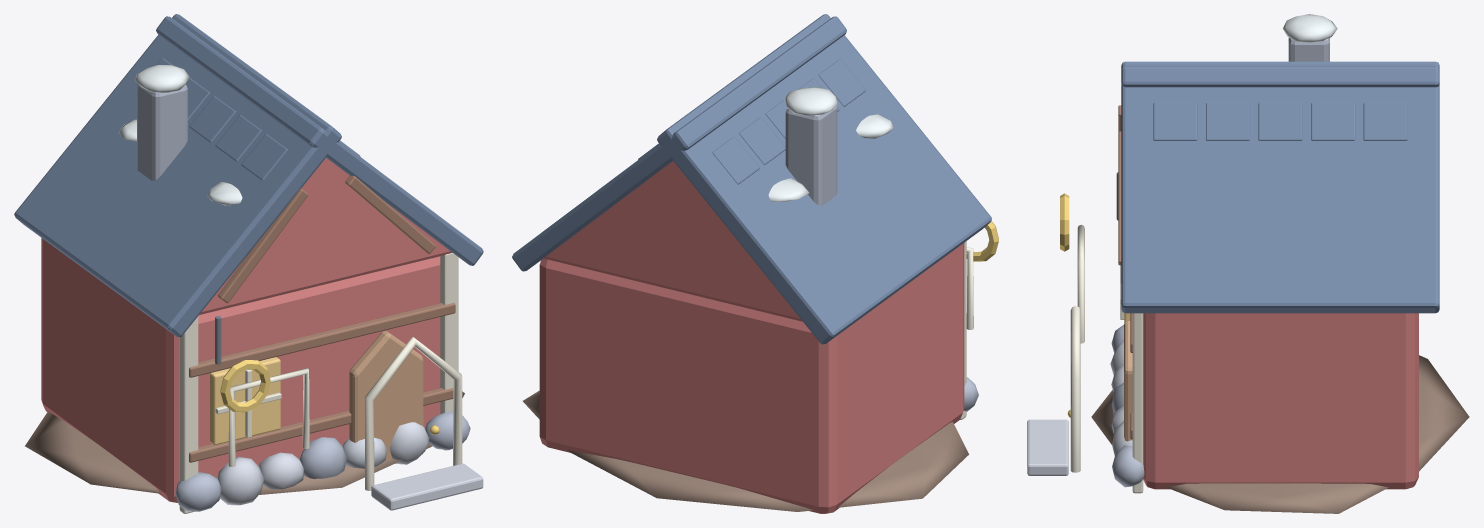
File: northern_house_red.glb
3 renders of one model, left to right at view 1: azimuth 30°, elevation 25°; view 2: azimuth 150°, elevation 25°; view 3: azimuth 270°, elevation 25°, orthographic. The views are drawn at different scales.
Parts seen in each view (by area): view 1: northern_house_red.001; view 2: northern_house_red.001; view 3: northern_house_red.001.
Part boxes in pixels (x1,y1,x2,y2): northern_house_red.001: [14, 14, 483, 513]; northern_house_red.001: [512, 14, 998, 513]; northern_house_red.001: [1027, 14, 1469, 513].
Bounding box in the file's own units: 11.1 × 9.98 × 10.7.
